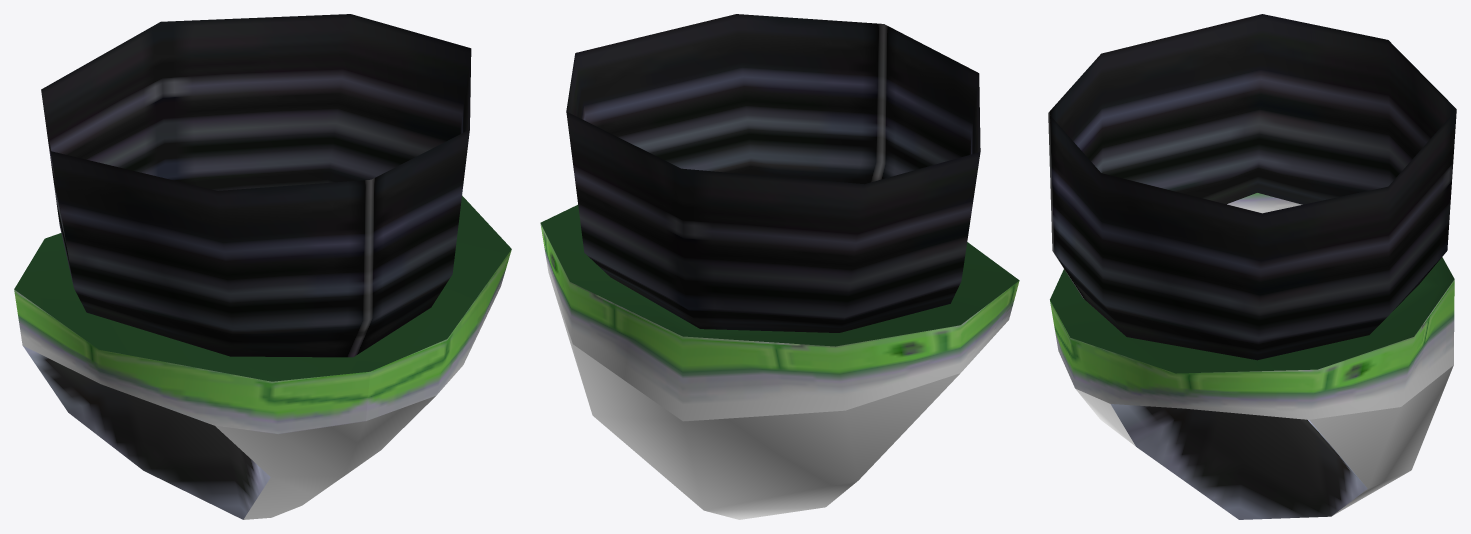
Rendered from buzzlightyHip.obj.
3 views of the same model, side by side, from view 1: azimuth 30°, elevation 25°; view 2: azimuth 150°, elevation 25°; view 3: azimuth 270°, elevation 25° (orthographic). The views are drawn at different scales.
Visible parts, largest first — view 1: buzzlightyHip_buzzlighty.011; view 2: buzzlightyHip_buzzlighty.011; view 3: buzzlightyHip_buzzlighty.011.
Part boxes in pixels (x1=…): buzzlightyHip_buzzlighty.011: x1=14, y1=14, x2=511, y2=519; buzzlightyHip_buzzlighty.011: x1=540, y1=14, x2=1019, y2=519; buzzlightyHip_buzzlighty.011: x1=1048, y1=14, x2=1456, y2=519.
Size of the model in its own units: 0.1966 by 0.1786 by 0.1643.
Materials: 1 (1 with a texture image).
